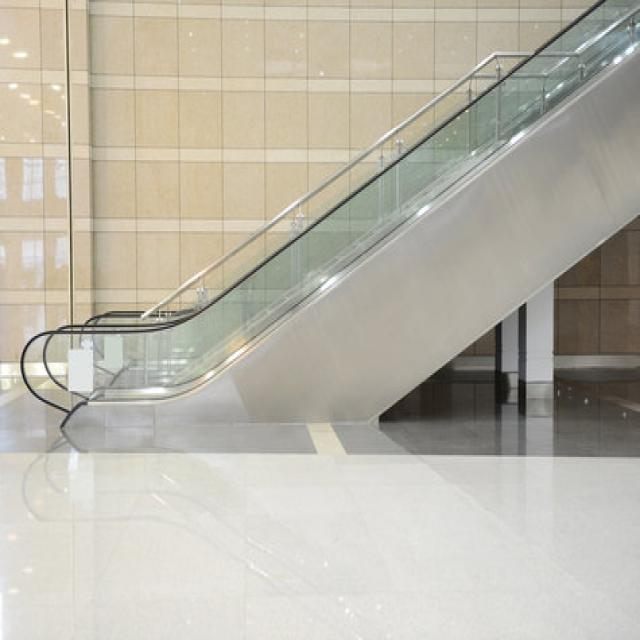escalator: (0, 0, 639, 462)
